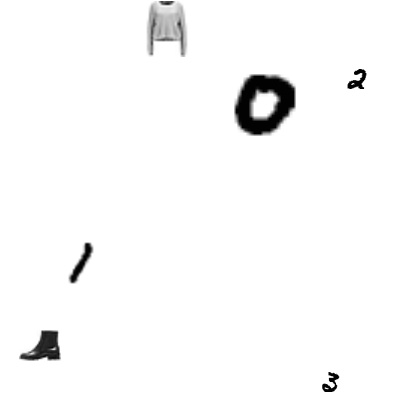0: (220, 60, 304, 144)
1: (53, 235, 109, 291)
2: (343, 66, 371, 94)
3: (317, 369, 345, 397)
Ankle_boot: (19, 323, 61, 365)
Pullover: (139, 1, 195, 57)
